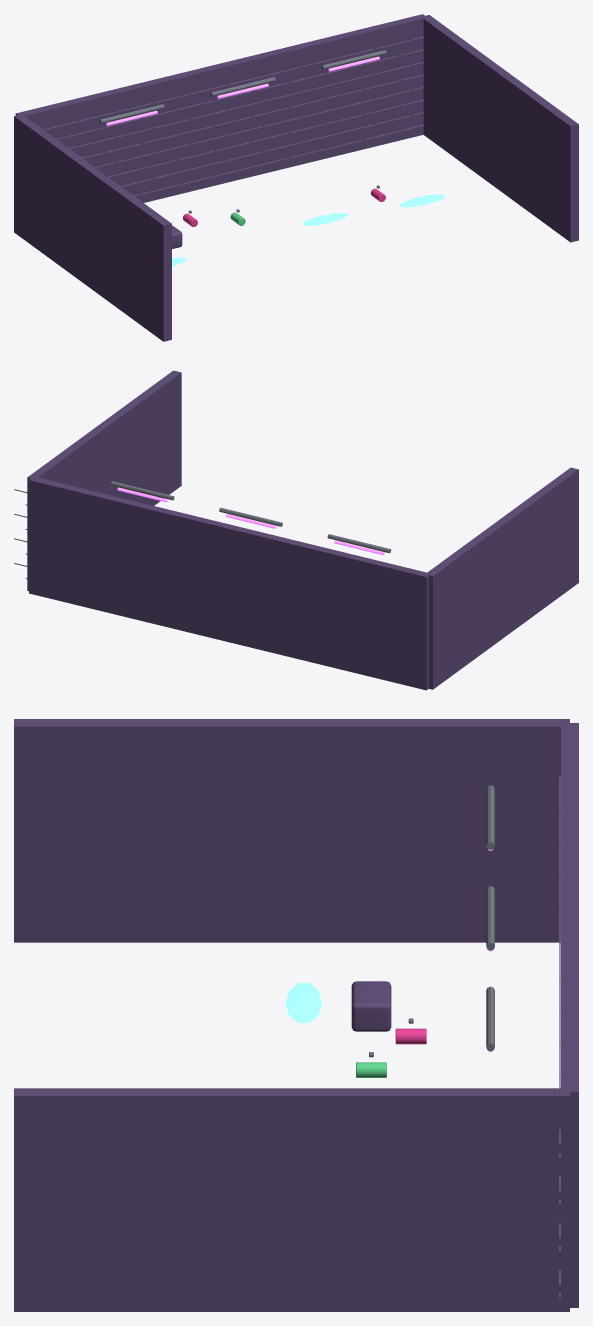
The model's file is marcos_uv_taller_r3.glb.
3 renders of one model, top to bottom at view 1: azimuth 30°, elevation 25°; view 2: azimuth 150°, elevation 25°; view 3: azimuth 270°, elevation 25°, orthographic. The views are drawn at different scales.
Parts seen in each view (by area): view 1: muro posterior, muro izquierdo, muro derecho; view 2: muro posterior, muro izquierdo, muro derecho; view 3: muro derecho, muro izquierdo, muro posterior, caja volcada, charco reactivo.
Boxes of the visible parts, bbox=[...] form: muro posterior: bbox=[15, 14, 424, 202]; muro izquierdo: bbox=[14, 114, 171, 341]; muro derecho: bbox=[421, 15, 578, 242]; muro posterior: bbox=[29, 477, 428, 690]; muro izquierdo: bbox=[425, 467, 578, 689]; muro derecho: bbox=[27, 370, 181, 590]; muro derecho: bbox=[14, 1088, 569, 1311]; muro izquierdo: bbox=[14, 719, 569, 942]; muro posterior: bbox=[561, 723, 578, 1307]; caja volcada: bbox=[351, 981, 391, 1031]; charco reactivo: bbox=[285, 983, 321, 1022].
Size of the model in its own units: 23.32 by 6 by 14.22.
